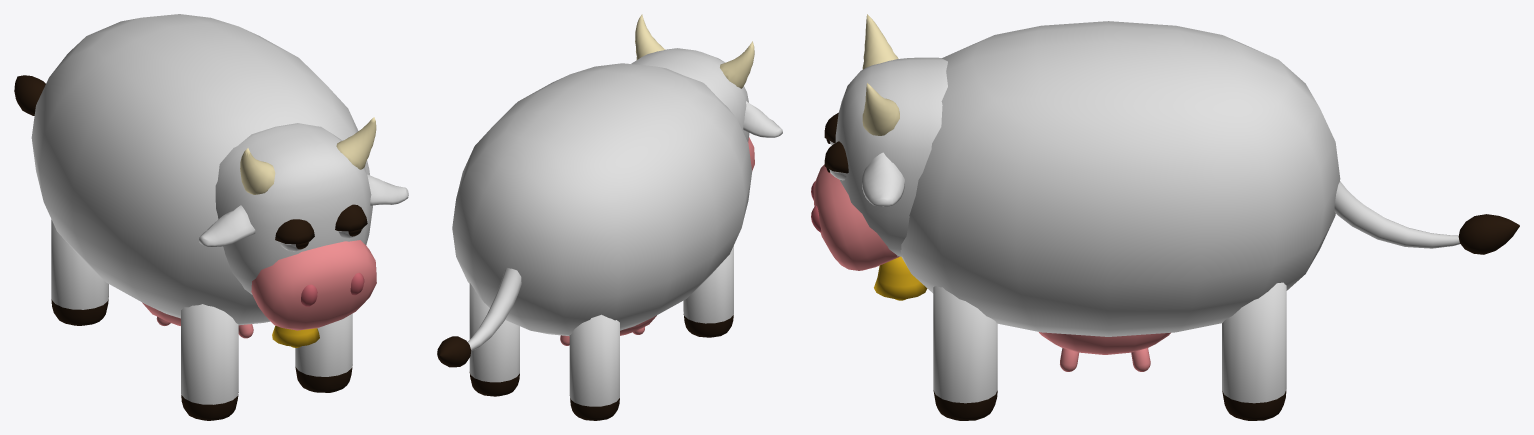
File: Cow.fbx
3 views of the same model, side by side, from view 1: azimuth 30°, elevation 25°; view 2: azimuth 150°, elevation 25°; view 3: azimuth 270°, elevation 25° (orthographic). The views are drawn at different scales.
Parts seen in each view (by area): view 1: Cow; view 2: Cow; view 3: Cow.
Part boxes in pixels (x1,y1,x2,y2): Cow: (14,14,408,420); Cow: (437,14,782,420); Cow: (811,14,1519,420).
Size of the model in its own units: 126 by 140 by 266.
